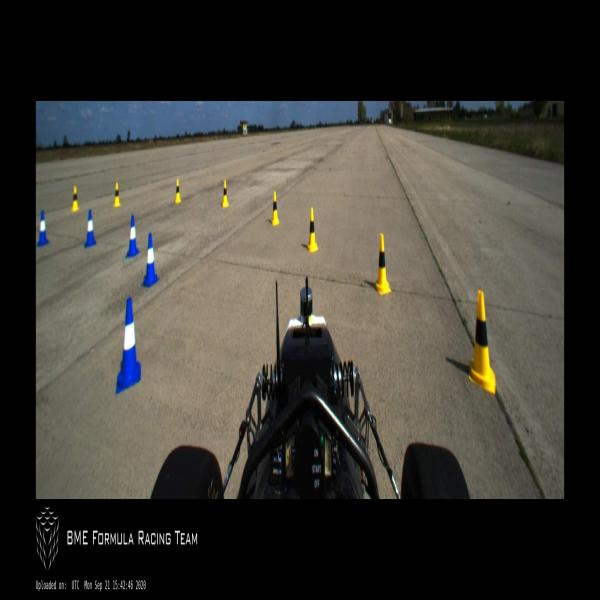blue_cone: (117, 296, 141, 394), (142, 232, 158, 286), (126, 215, 139, 258), (84, 211, 95, 248), (37, 212, 48, 247)
yellow_cone: (468, 292, 496, 396), (374, 234, 390, 294), (307, 207, 318, 253), (271, 190, 279, 225), (221, 180, 228, 206), (113, 183, 120, 206), (174, 180, 180, 202), (72, 188, 78, 210)
